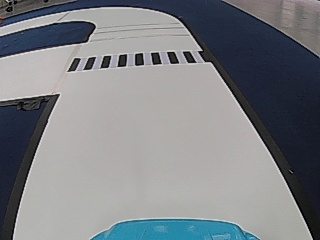CrossWalk: (66, 50, 208, 72)
